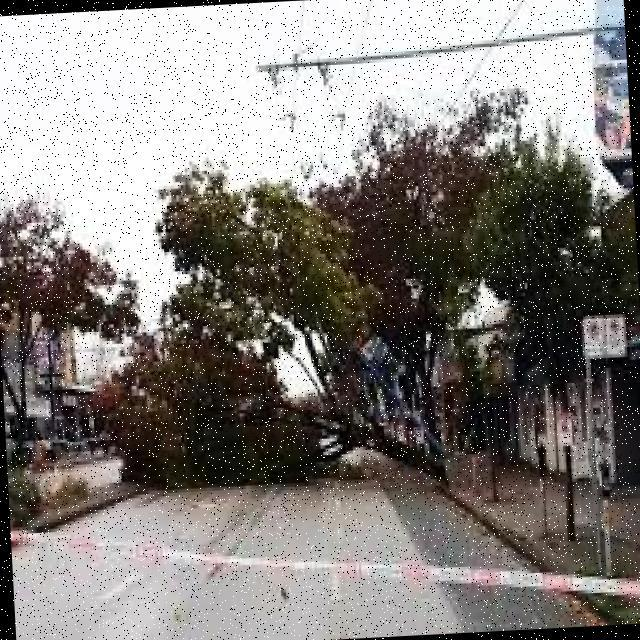fallen_object: (115, 308, 478, 512)
